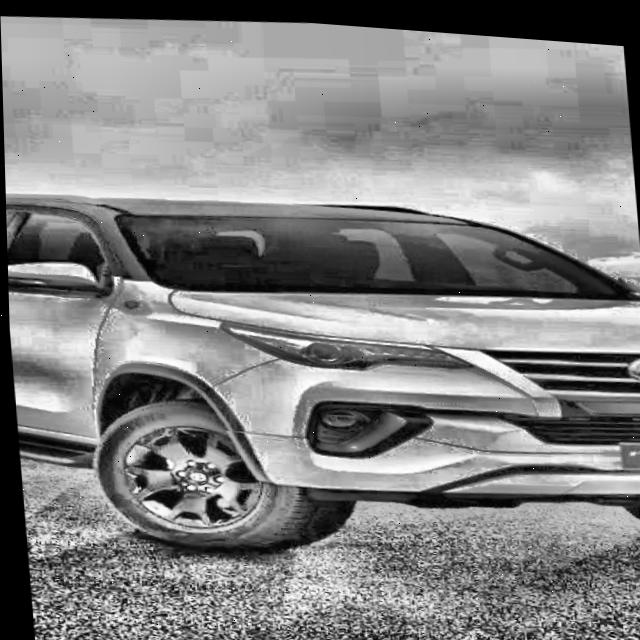light_vehicle: (4, 161, 640, 584)
